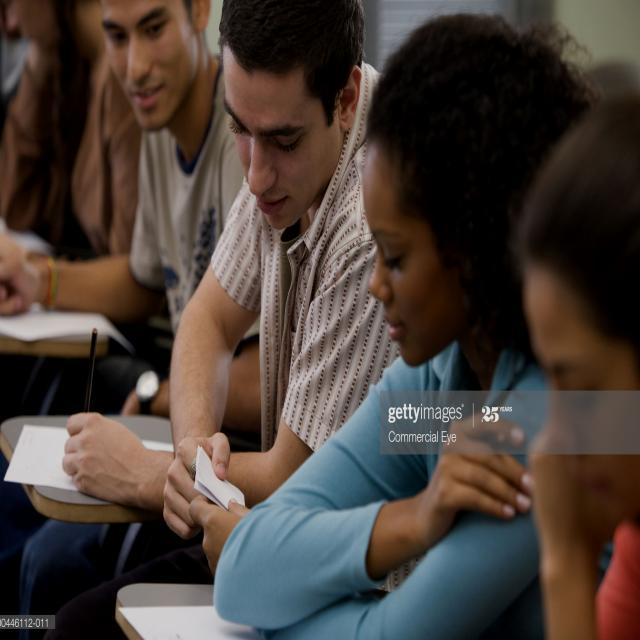cheating: (356, 9, 595, 390), (207, 0, 372, 394), (90, 0, 247, 283), (149, 413, 286, 596)
